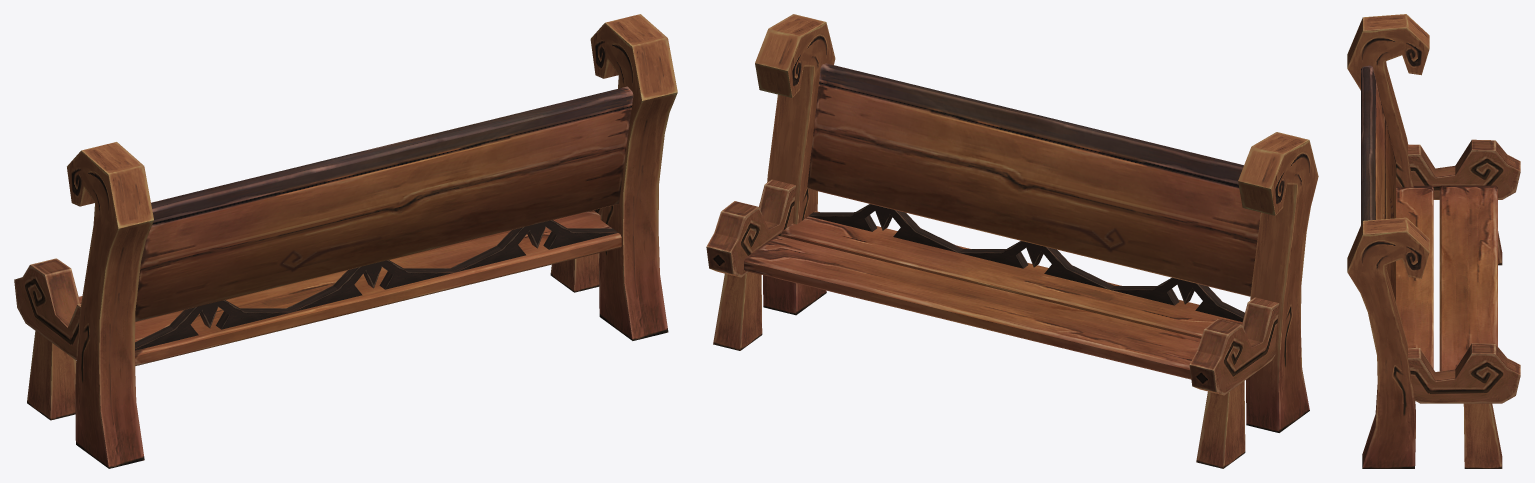
Rendered from bench.fbx.
3 renders of one model, left to right at view 1: azimuth 30°, elevation 25°; view 2: azimuth 150°, elevation 25°; view 3: azimuth 270°, elevation 25°, orthographic. The views are drawn at different scales.
Visible parts, largest first — view 1: polySurface446; view 2: polySurface446; view 3: polySurface446.
Boxes of the visible parts, x1=… form: polySurface446: x1=14, y1=14, x2=677, y2=468; polySurface446: x1=706, y1=14, x2=1318, y2=468; polySurface446: x1=1347, y1=14, x2=1520, y2=468.
Bounding box in the file's own units: 3.06 × 1.56 × 1.03.
